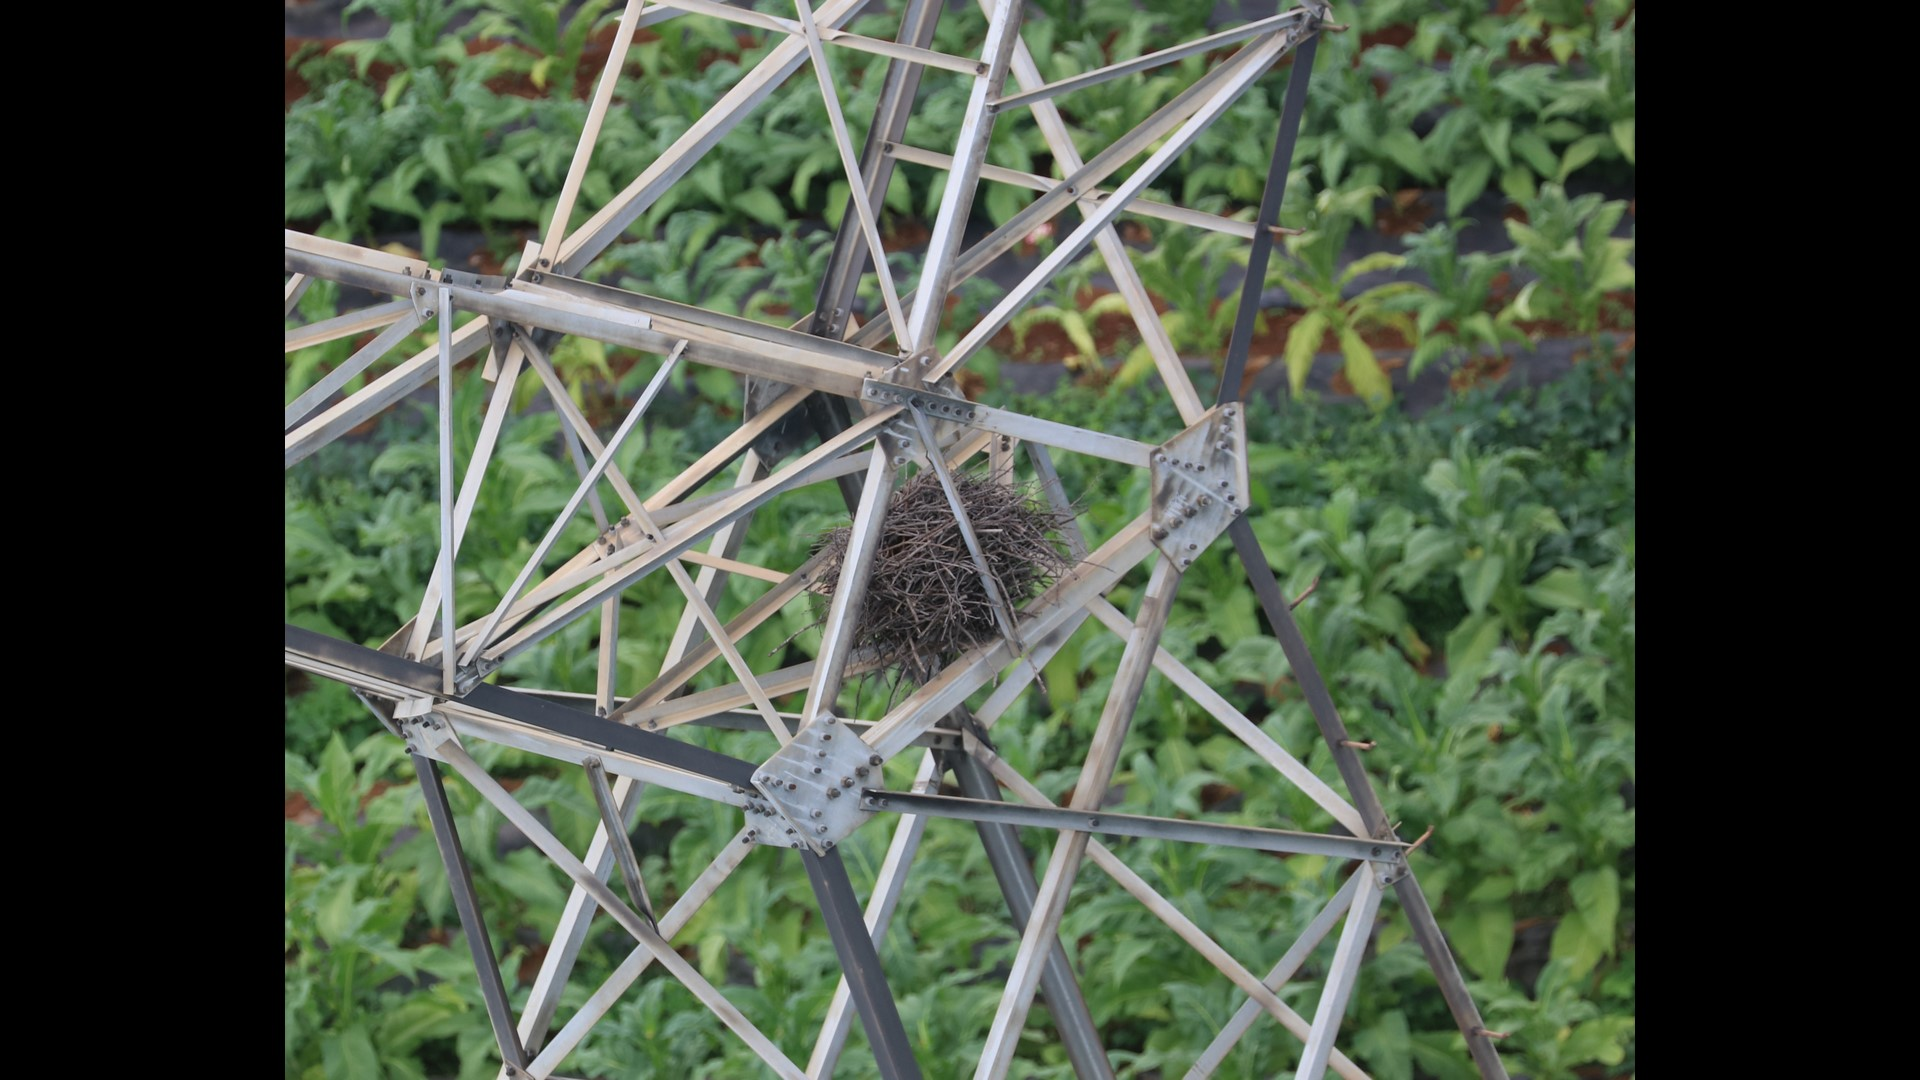niaowo: (812, 456, 1059, 676)
